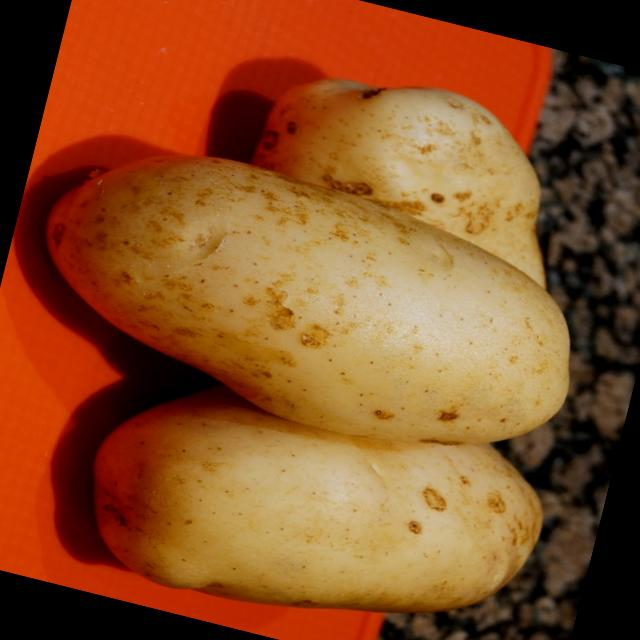potato: (4, 124, 597, 488), (65, 354, 555, 640)
